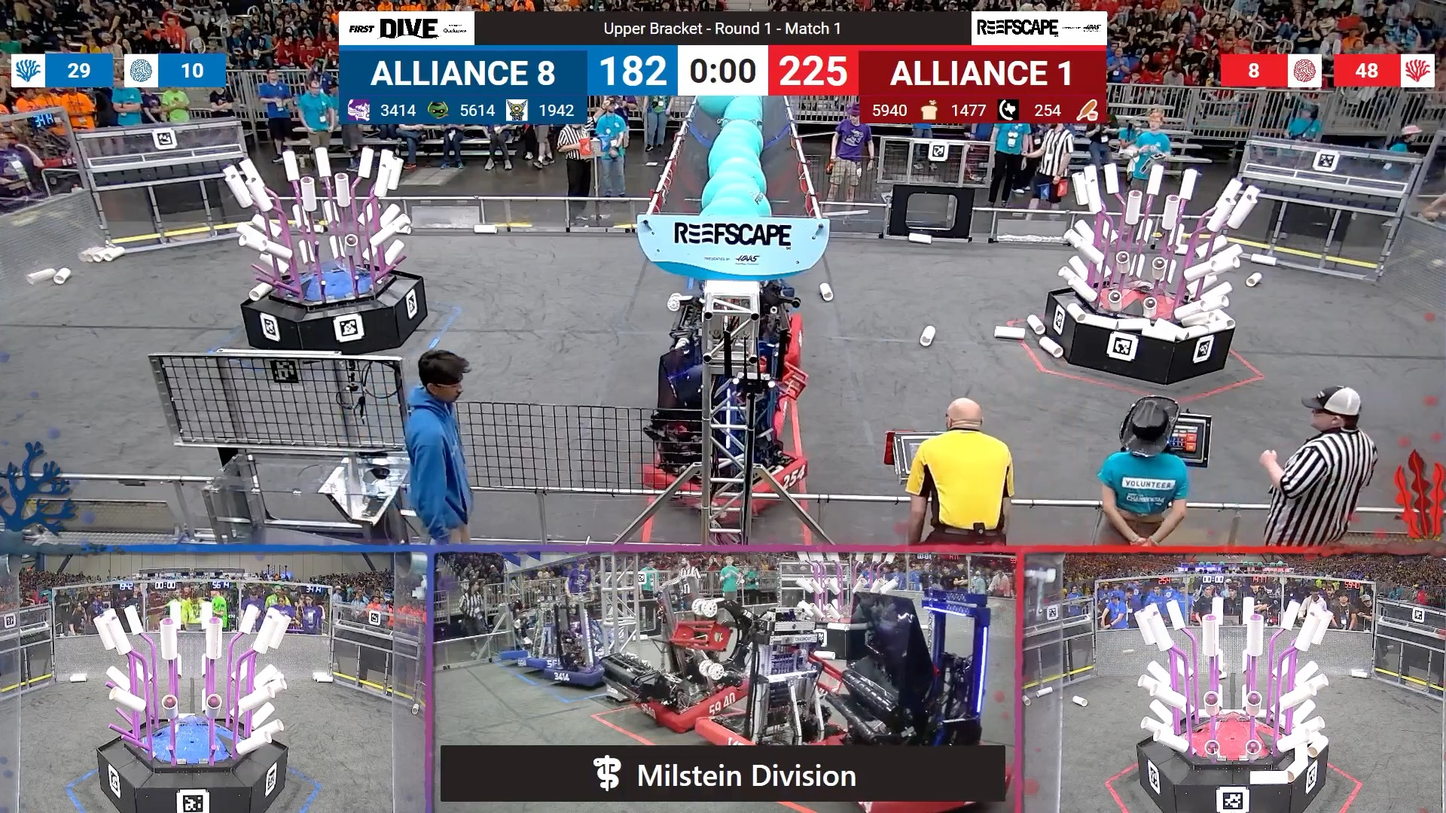bumpers: (640, 445, 807, 518), (627, 679, 739, 724), (531, 660, 624, 688), (506, 652, 569, 673)
